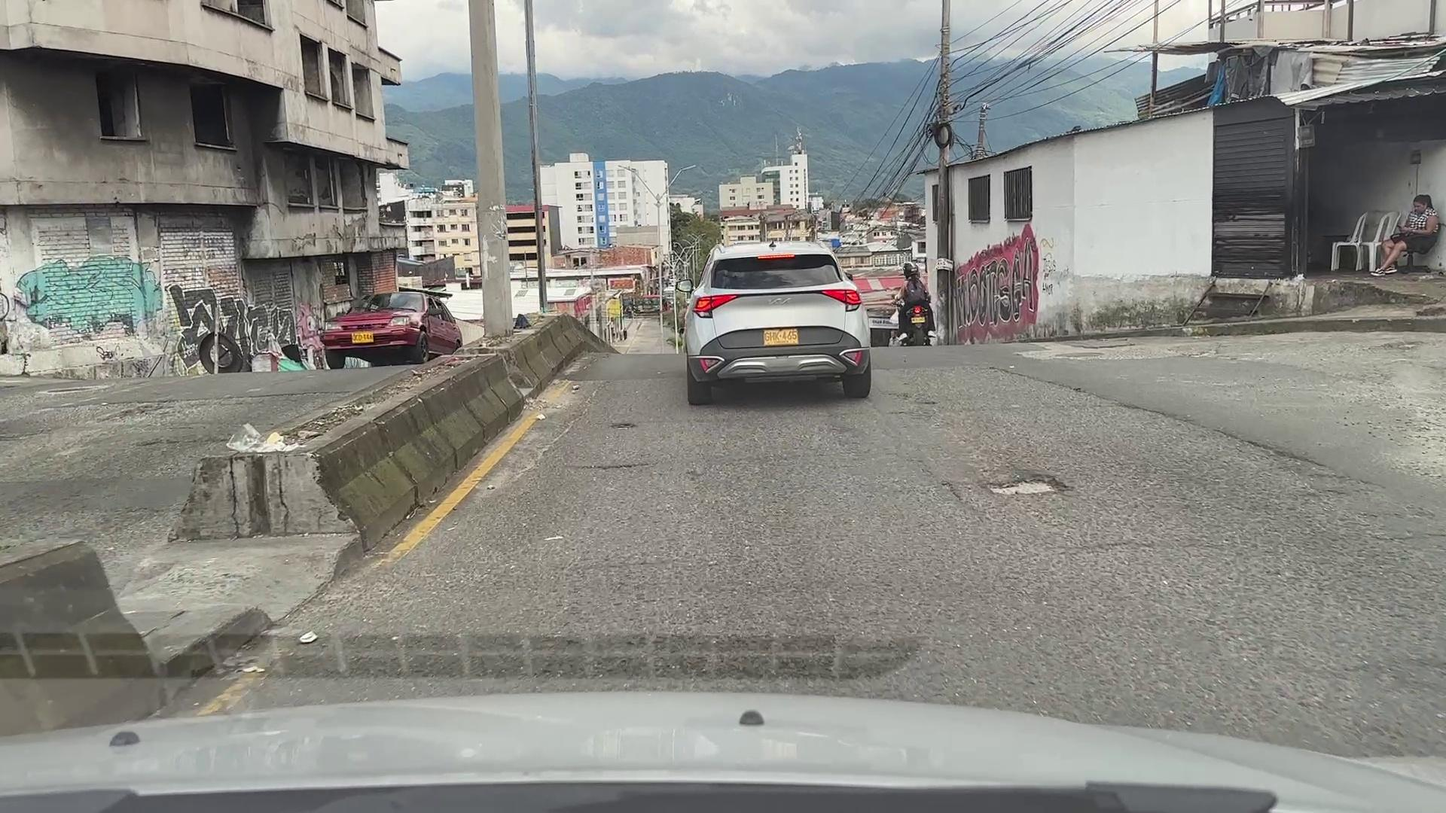bache: (989, 474, 1066, 495), (575, 464, 643, 467), (612, 422, 635, 428)
